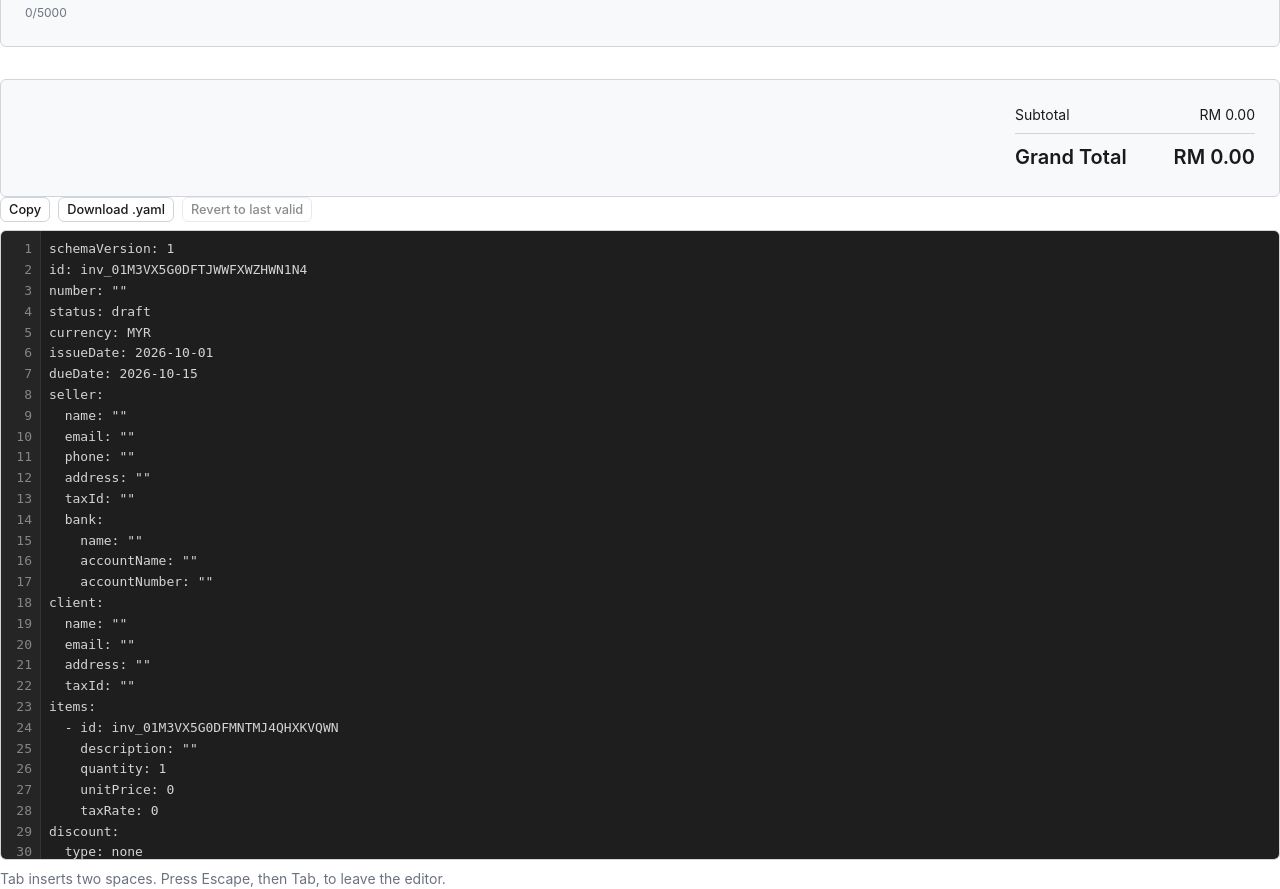
YamlPanel › shows errors for invalid YAML and can revert
(page scrolled)
Step 1. Replace the text in the text box named "Invoice YAML" with "schemaVersion: [oops" → (660, 545), box [41,231,1279,859]
(page scrolled)
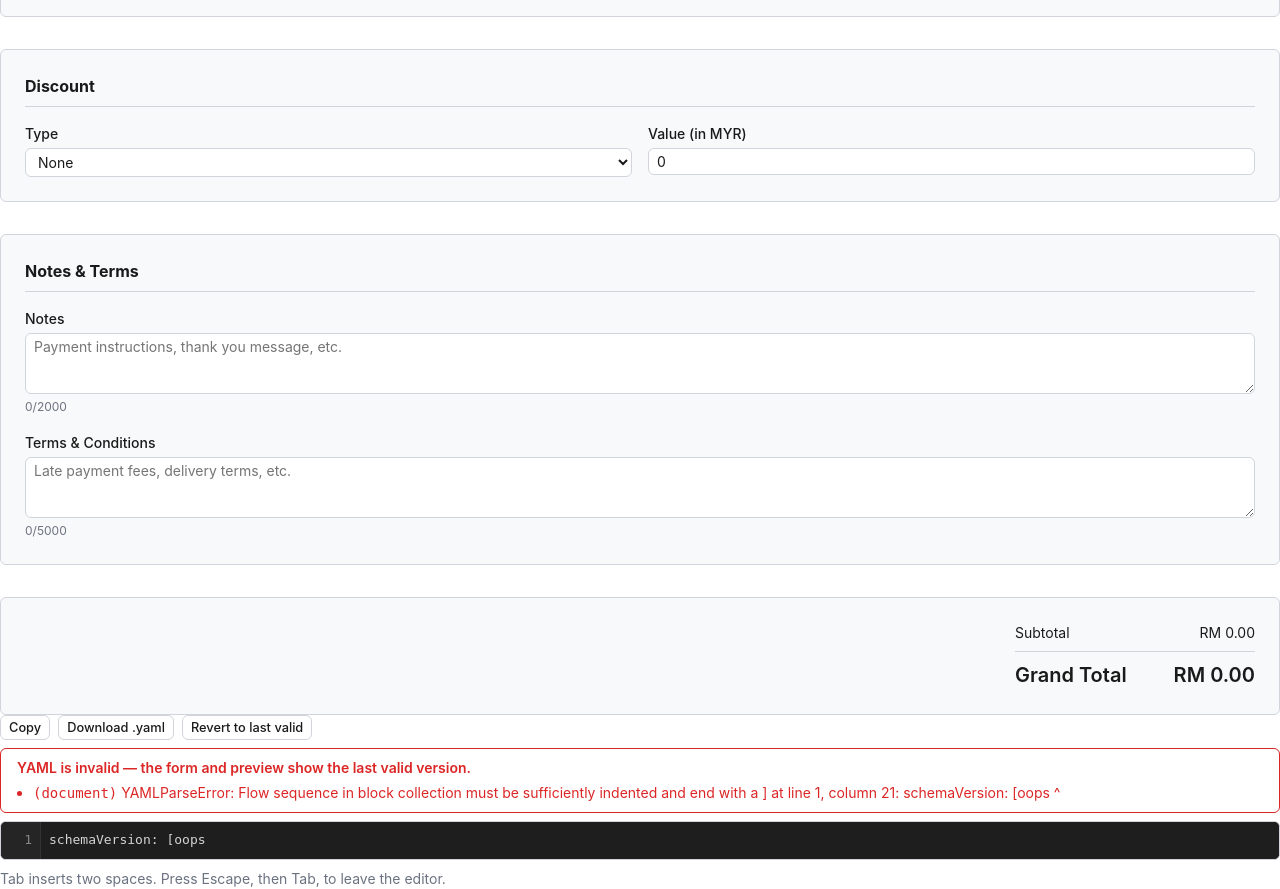
Expected: the text "YAML is invalid" is shown, [17,759,471,776]
Step 2. Click the button "Revert to last valid" → (247, 728), box [182,715,312,740]
(page scrolled)
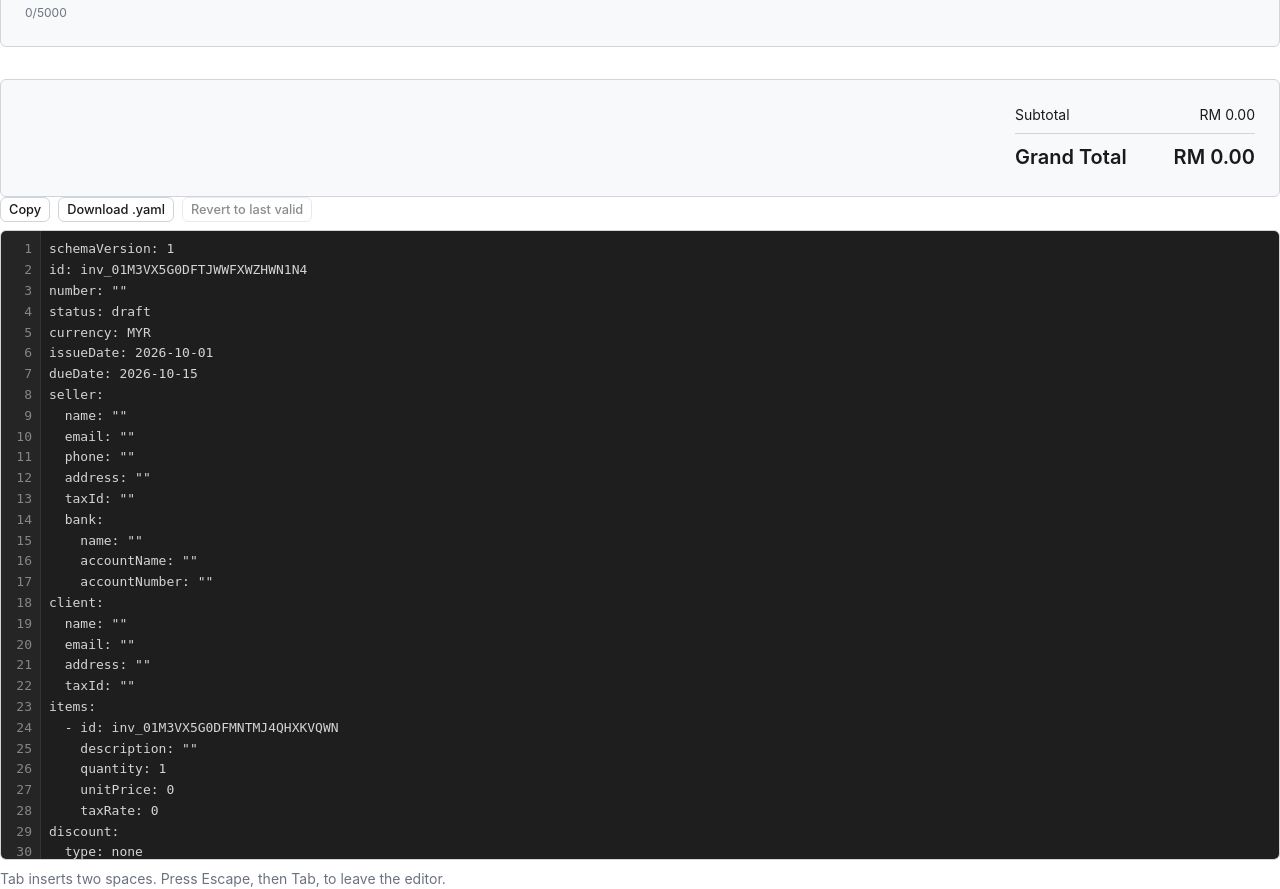
Expected: the text "YAML is invalid" is gone
